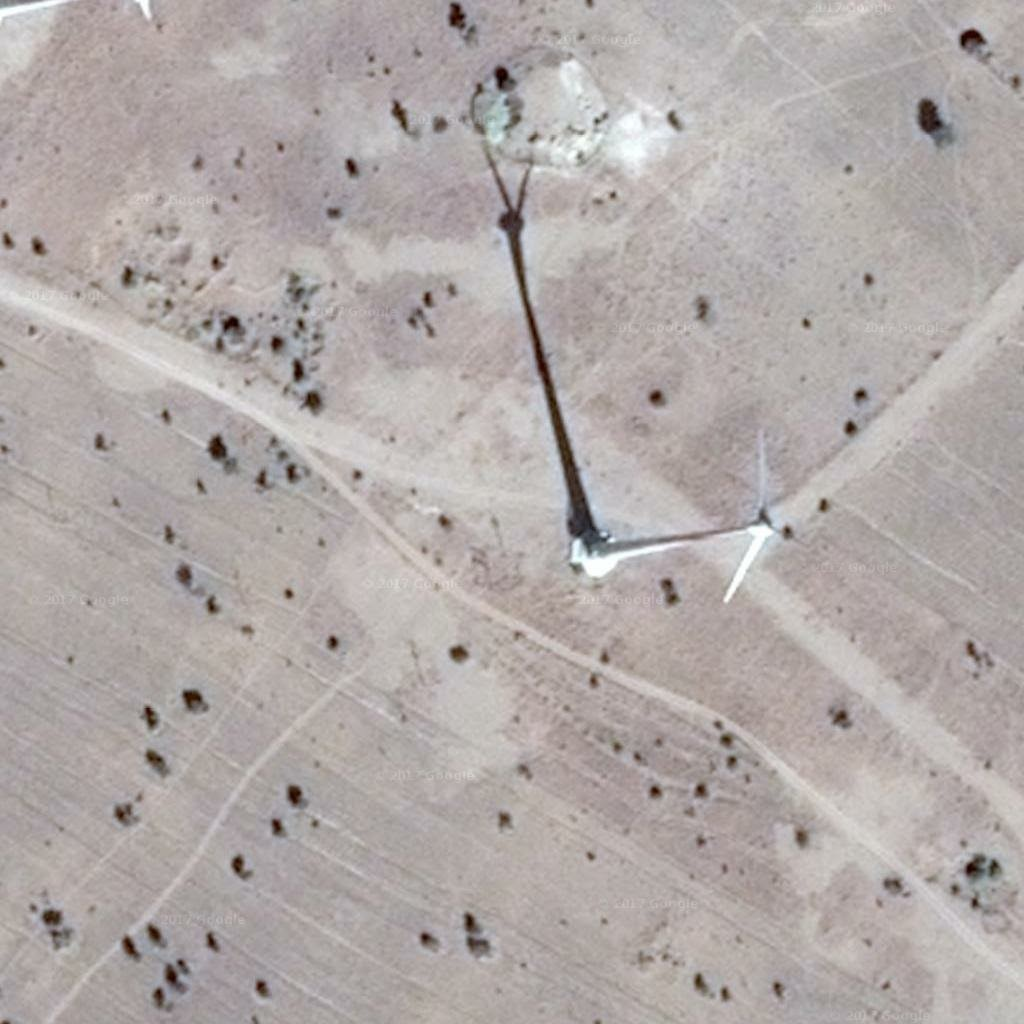Windmill: (468, 107, 609, 546)
